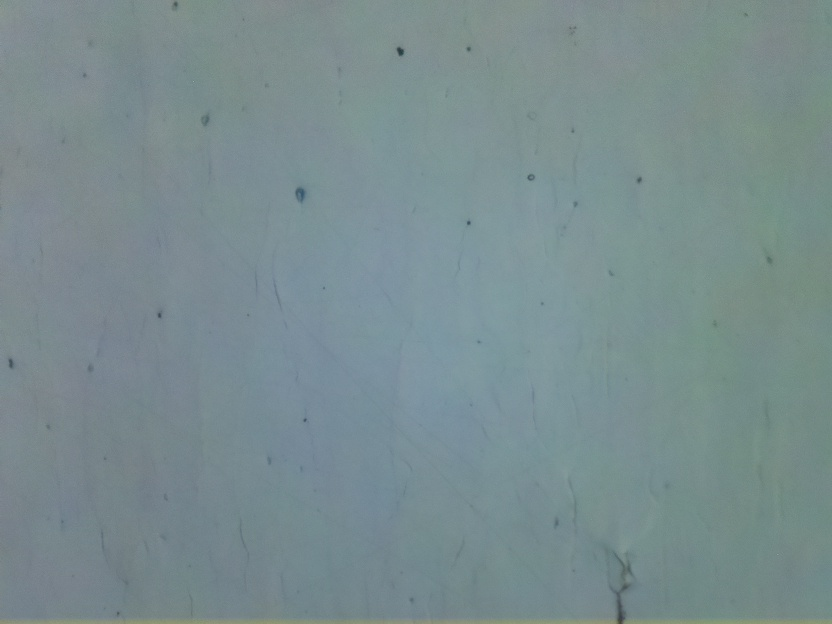crack: (609, 550, 633, 624)
